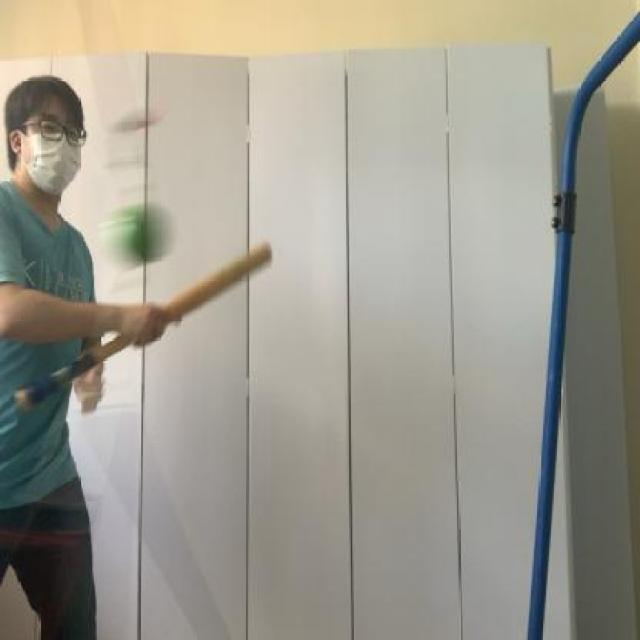baseball: (86, 185, 185, 269)
